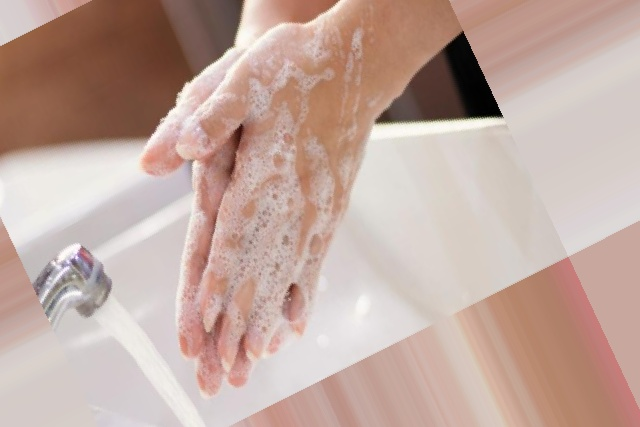washing hand: (0, 0, 470, 426)
